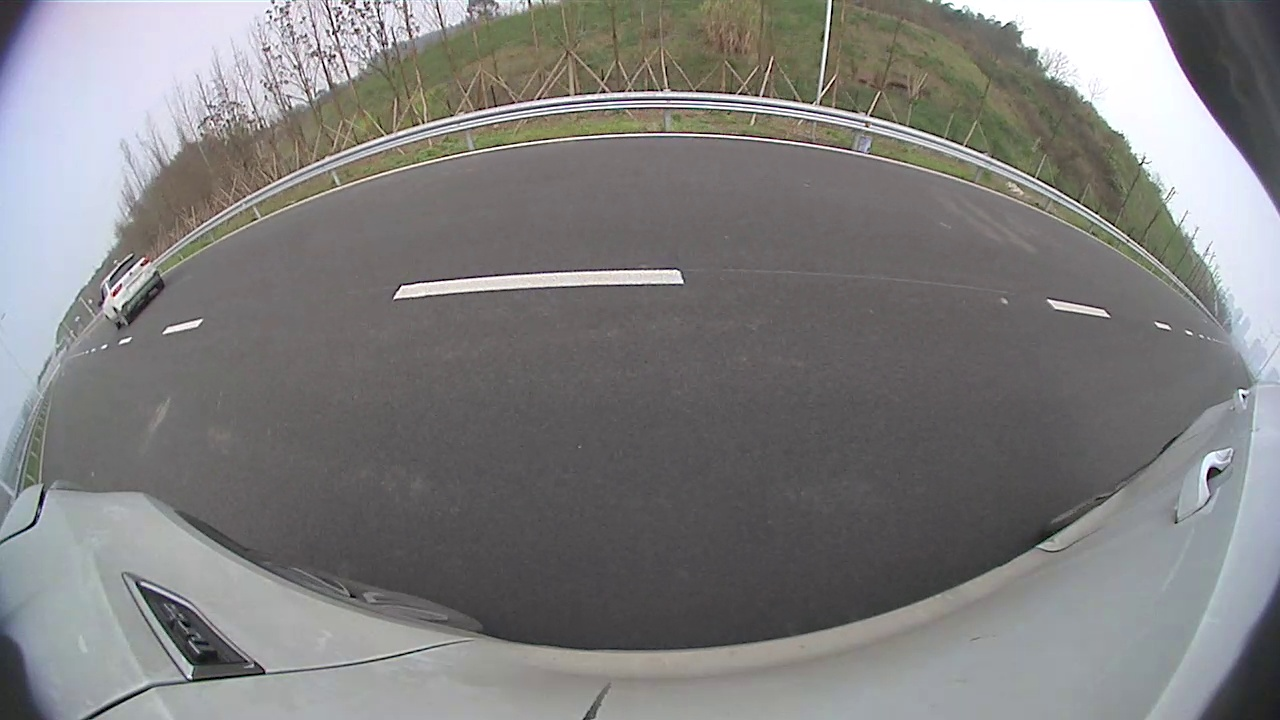car: (98, 252, 165, 329)
rear: (116, 310, 129, 325)
